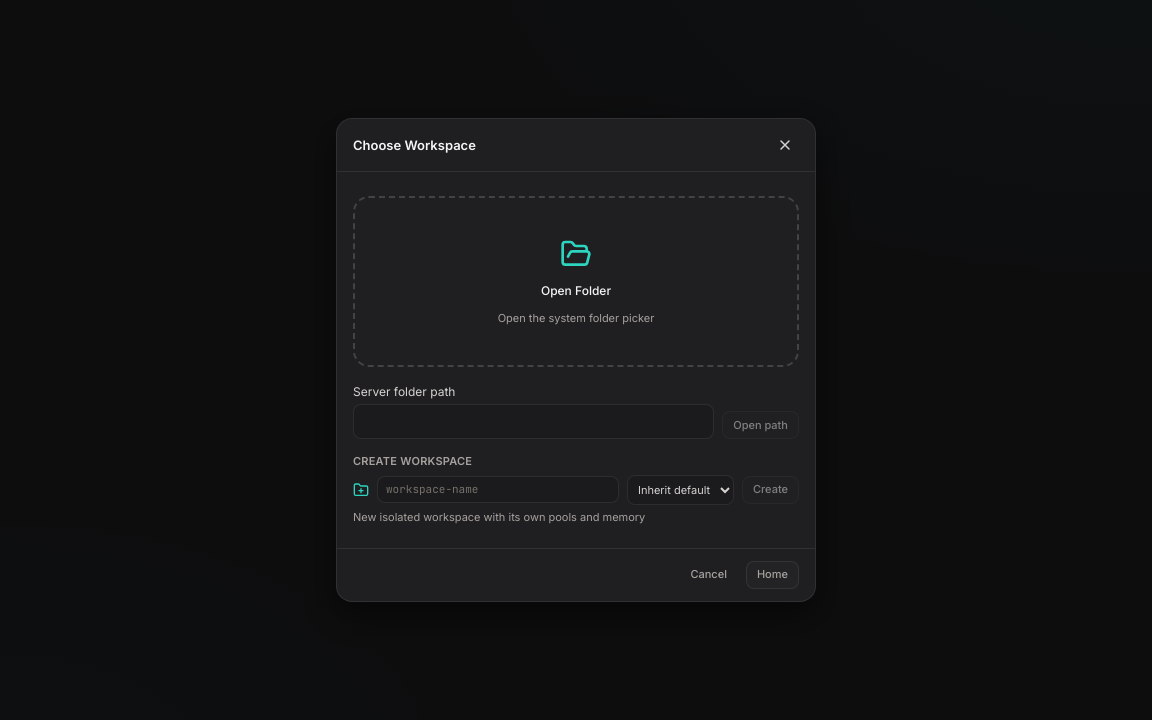
WorkspaceBrowser › open folder picker › shows error when pick returns success=false with notice
Click the text "Open Folder": (576, 291) [541,282,611,300]
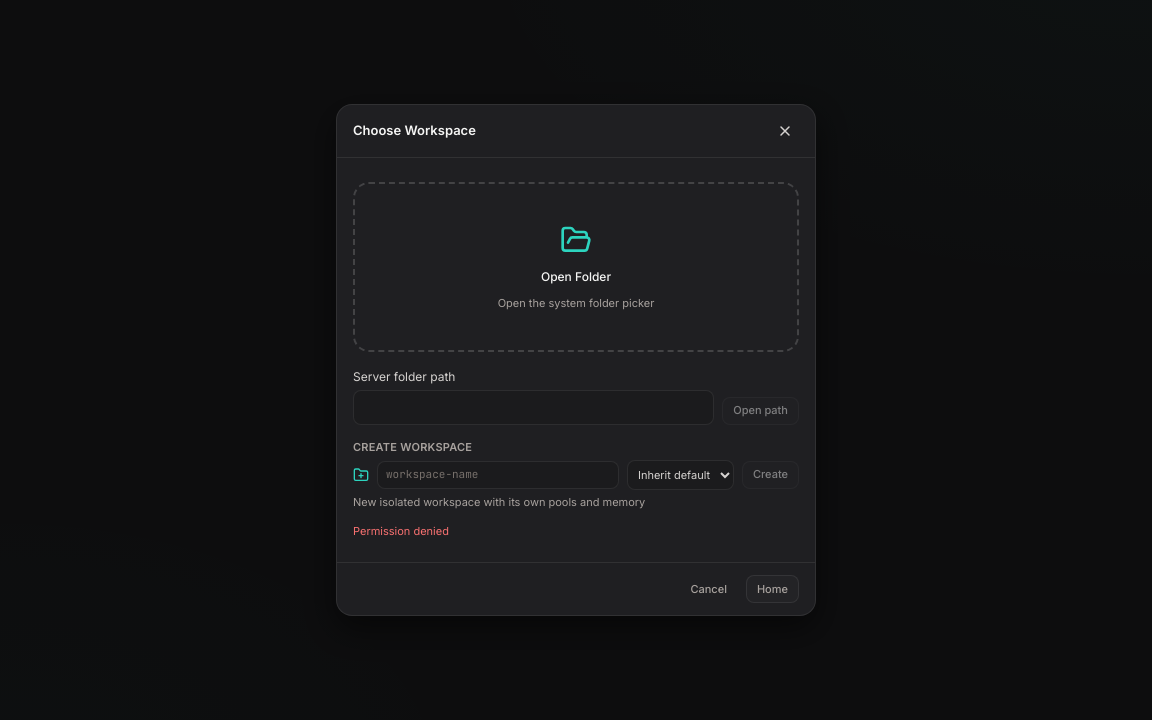
expect the text "Permission denied" is shown: met, box [353,524,449,538]
